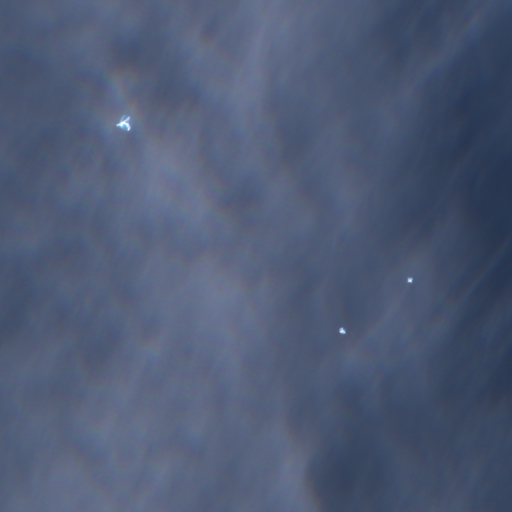Iceberg: (117, 115, 130, 130), (339, 327, 345, 333), (407, 278, 412, 282)
